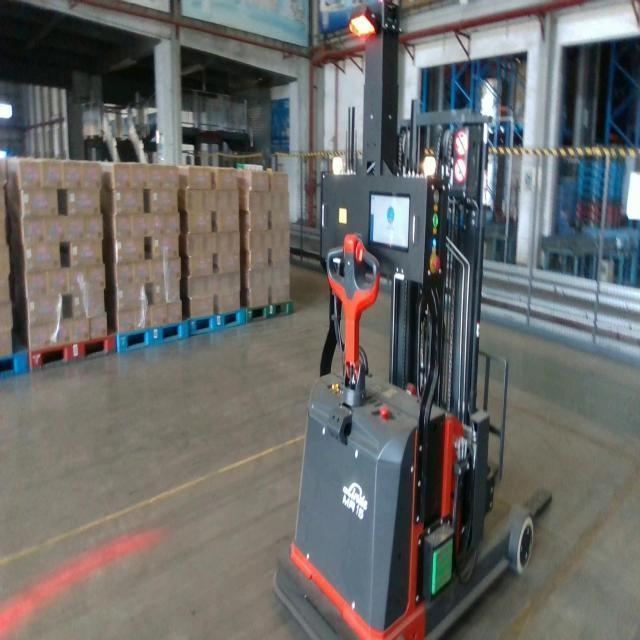forklift: (272, 0, 553, 640)
